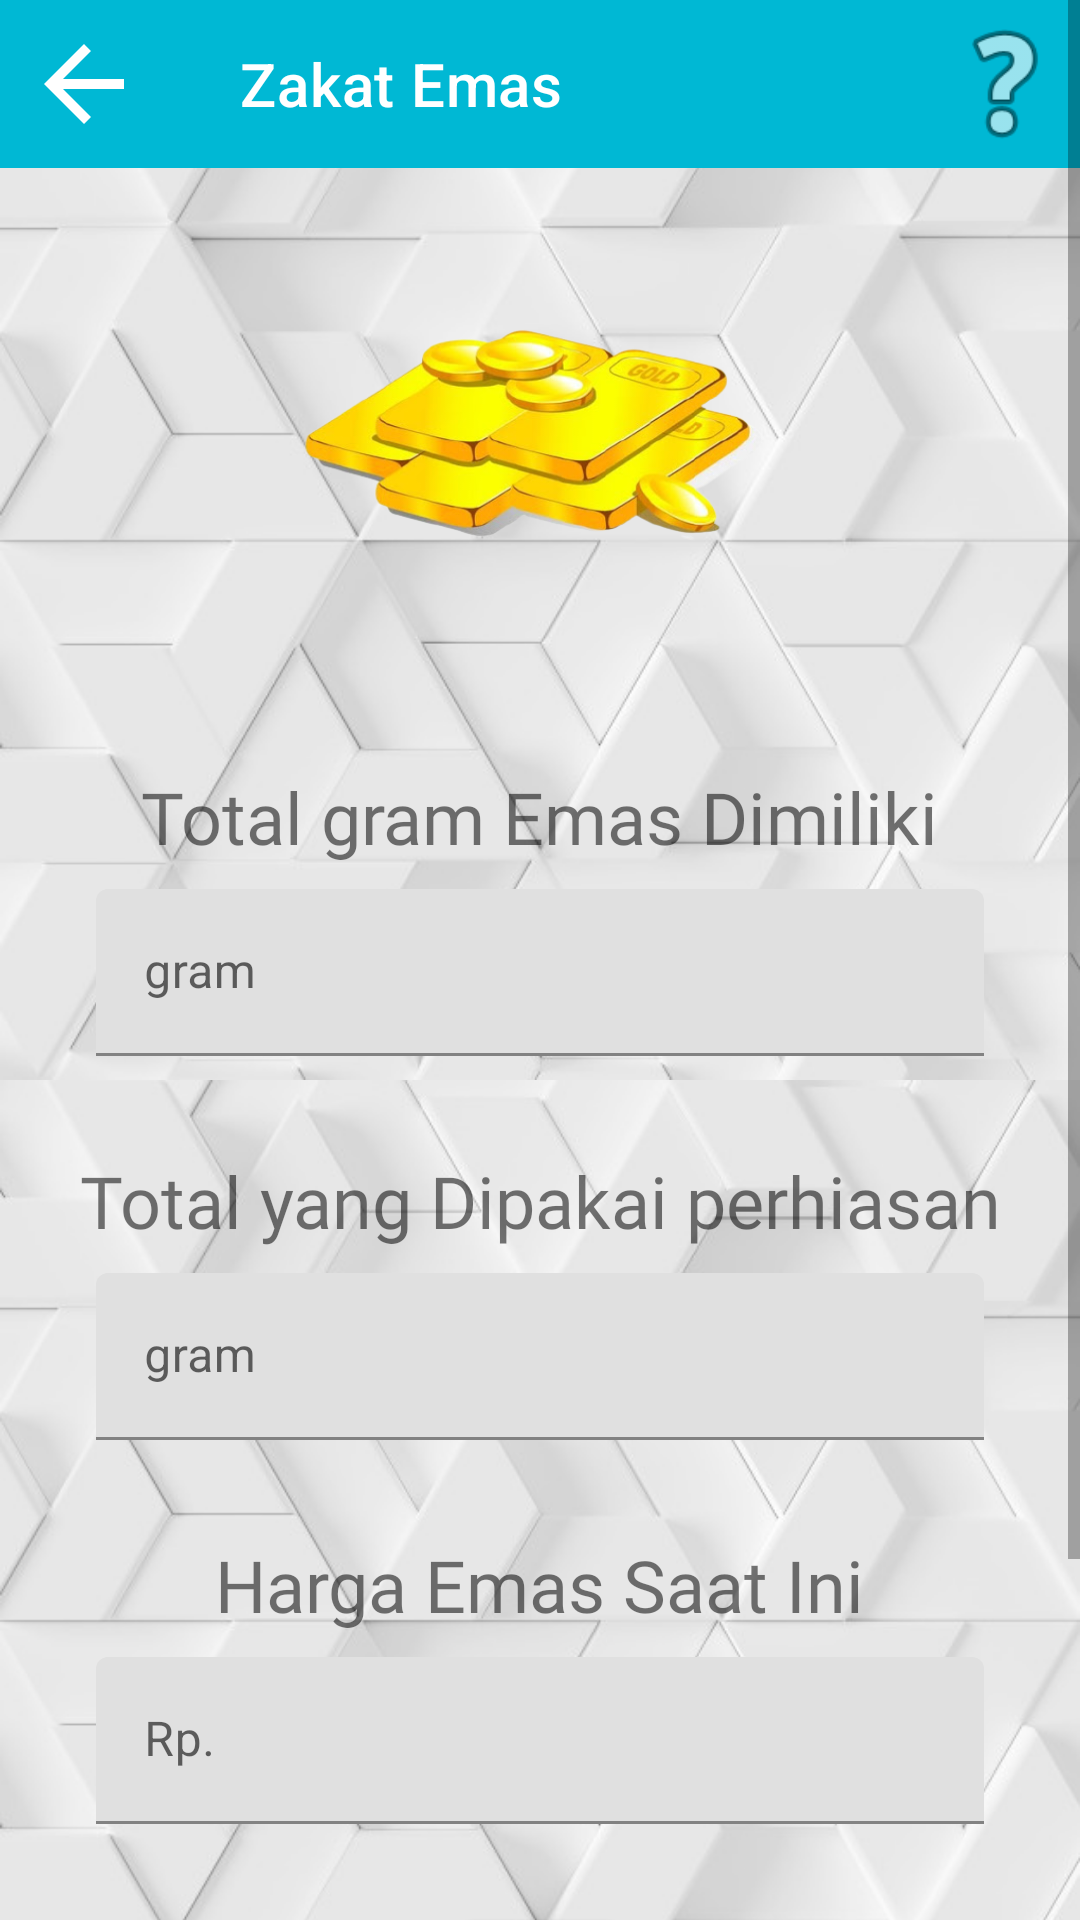

Locate icon controls on the screen. Image size 1080 × 1920, boxes as [x1, y1, x2, y2].
help: [972, 30, 1038, 138]
